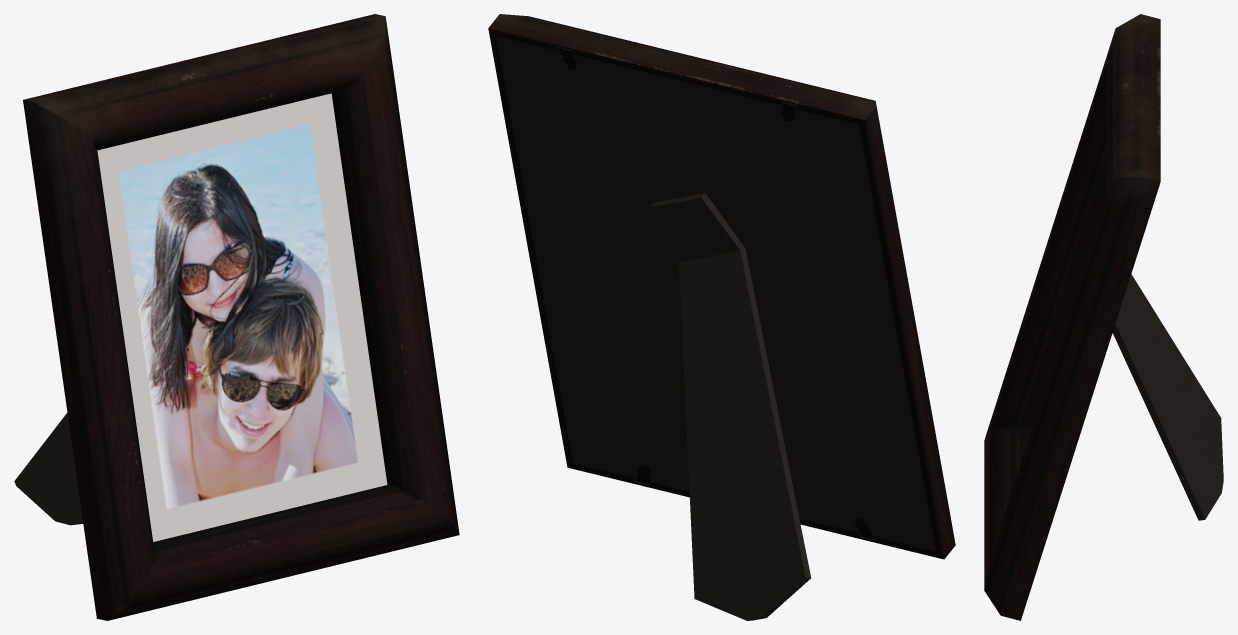
Rendered from PhotoFrameE.FBX.
The picture shows the model from 3 angles, left to right: view 1: azimuth 30°, elevation 25°; view 2: azimuth 150°, elevation 25°; view 3: azimuth 270°, elevation 25°; orthographic projection. The views are drawn at different scales.
Parts seen in each view (by area): view 1: PhotoFrameE; view 2: PhotoFrameE; view 3: PhotoFrameE.
Part boxes in pixels (box(x1,y1,x2,y2)): PhotoFrameE: box(14, 14, 459, 620); PhotoFrameE: box(488, 14, 955, 620); PhotoFrameE: box(984, 14, 1223, 620).
Bounding box in the file's own units: 6.3 × 8.05 × 3.93.
